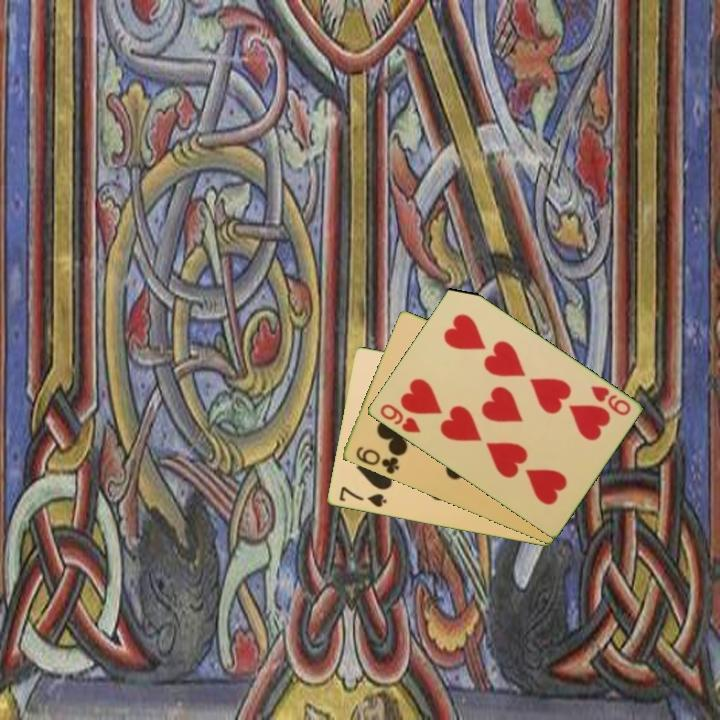6c: (352, 443, 402, 477)
7s: (335, 483, 389, 510)
9h: (587, 382, 633, 419), (376, 400, 423, 436)
